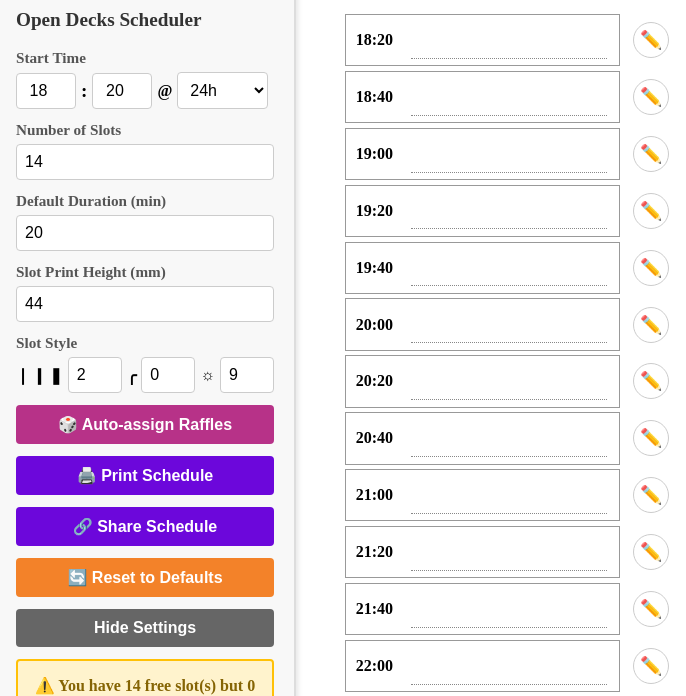
Test: App Component › EndTime component › should update end time when slot duration changes
Change default duration to 30 minutes
Replace the text in the number field labelled "Default Duration (min)" with "30" at (145, 233), box [16,215,274,251]
(page scrolled)
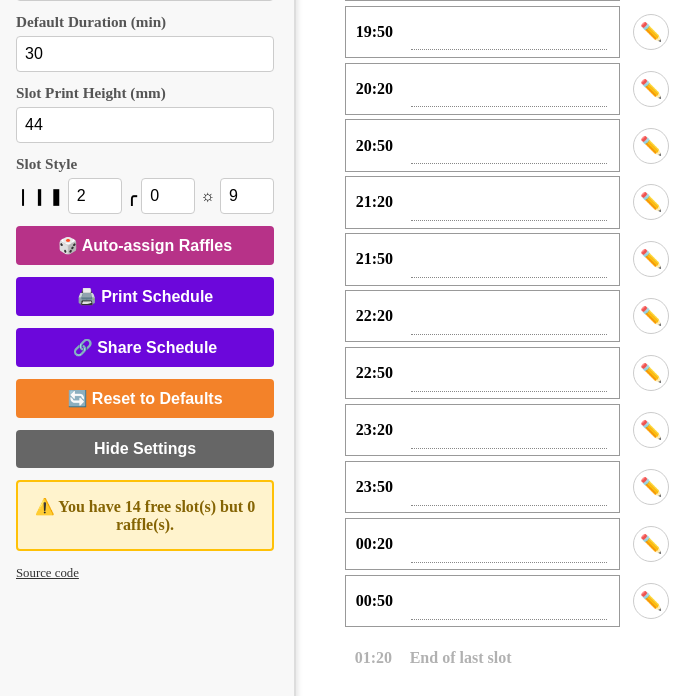
Check: the text "01:20" is shown, box [355,649,392,667]
